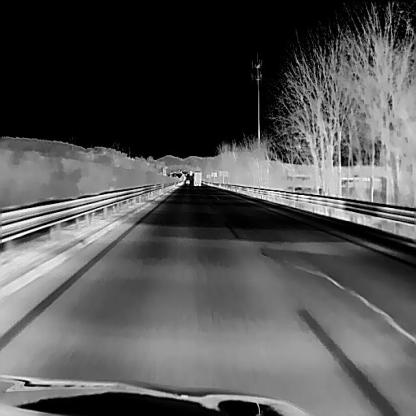car: (185, 177, 189, 184)
truck: (193, 170, 202, 185)
